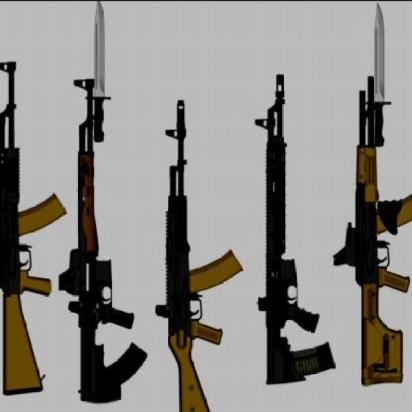Gun: (145, 99, 239, 412), (253, 69, 339, 387), (66, 98, 148, 408), (0, 59, 70, 401), (344, 92, 412, 394)
